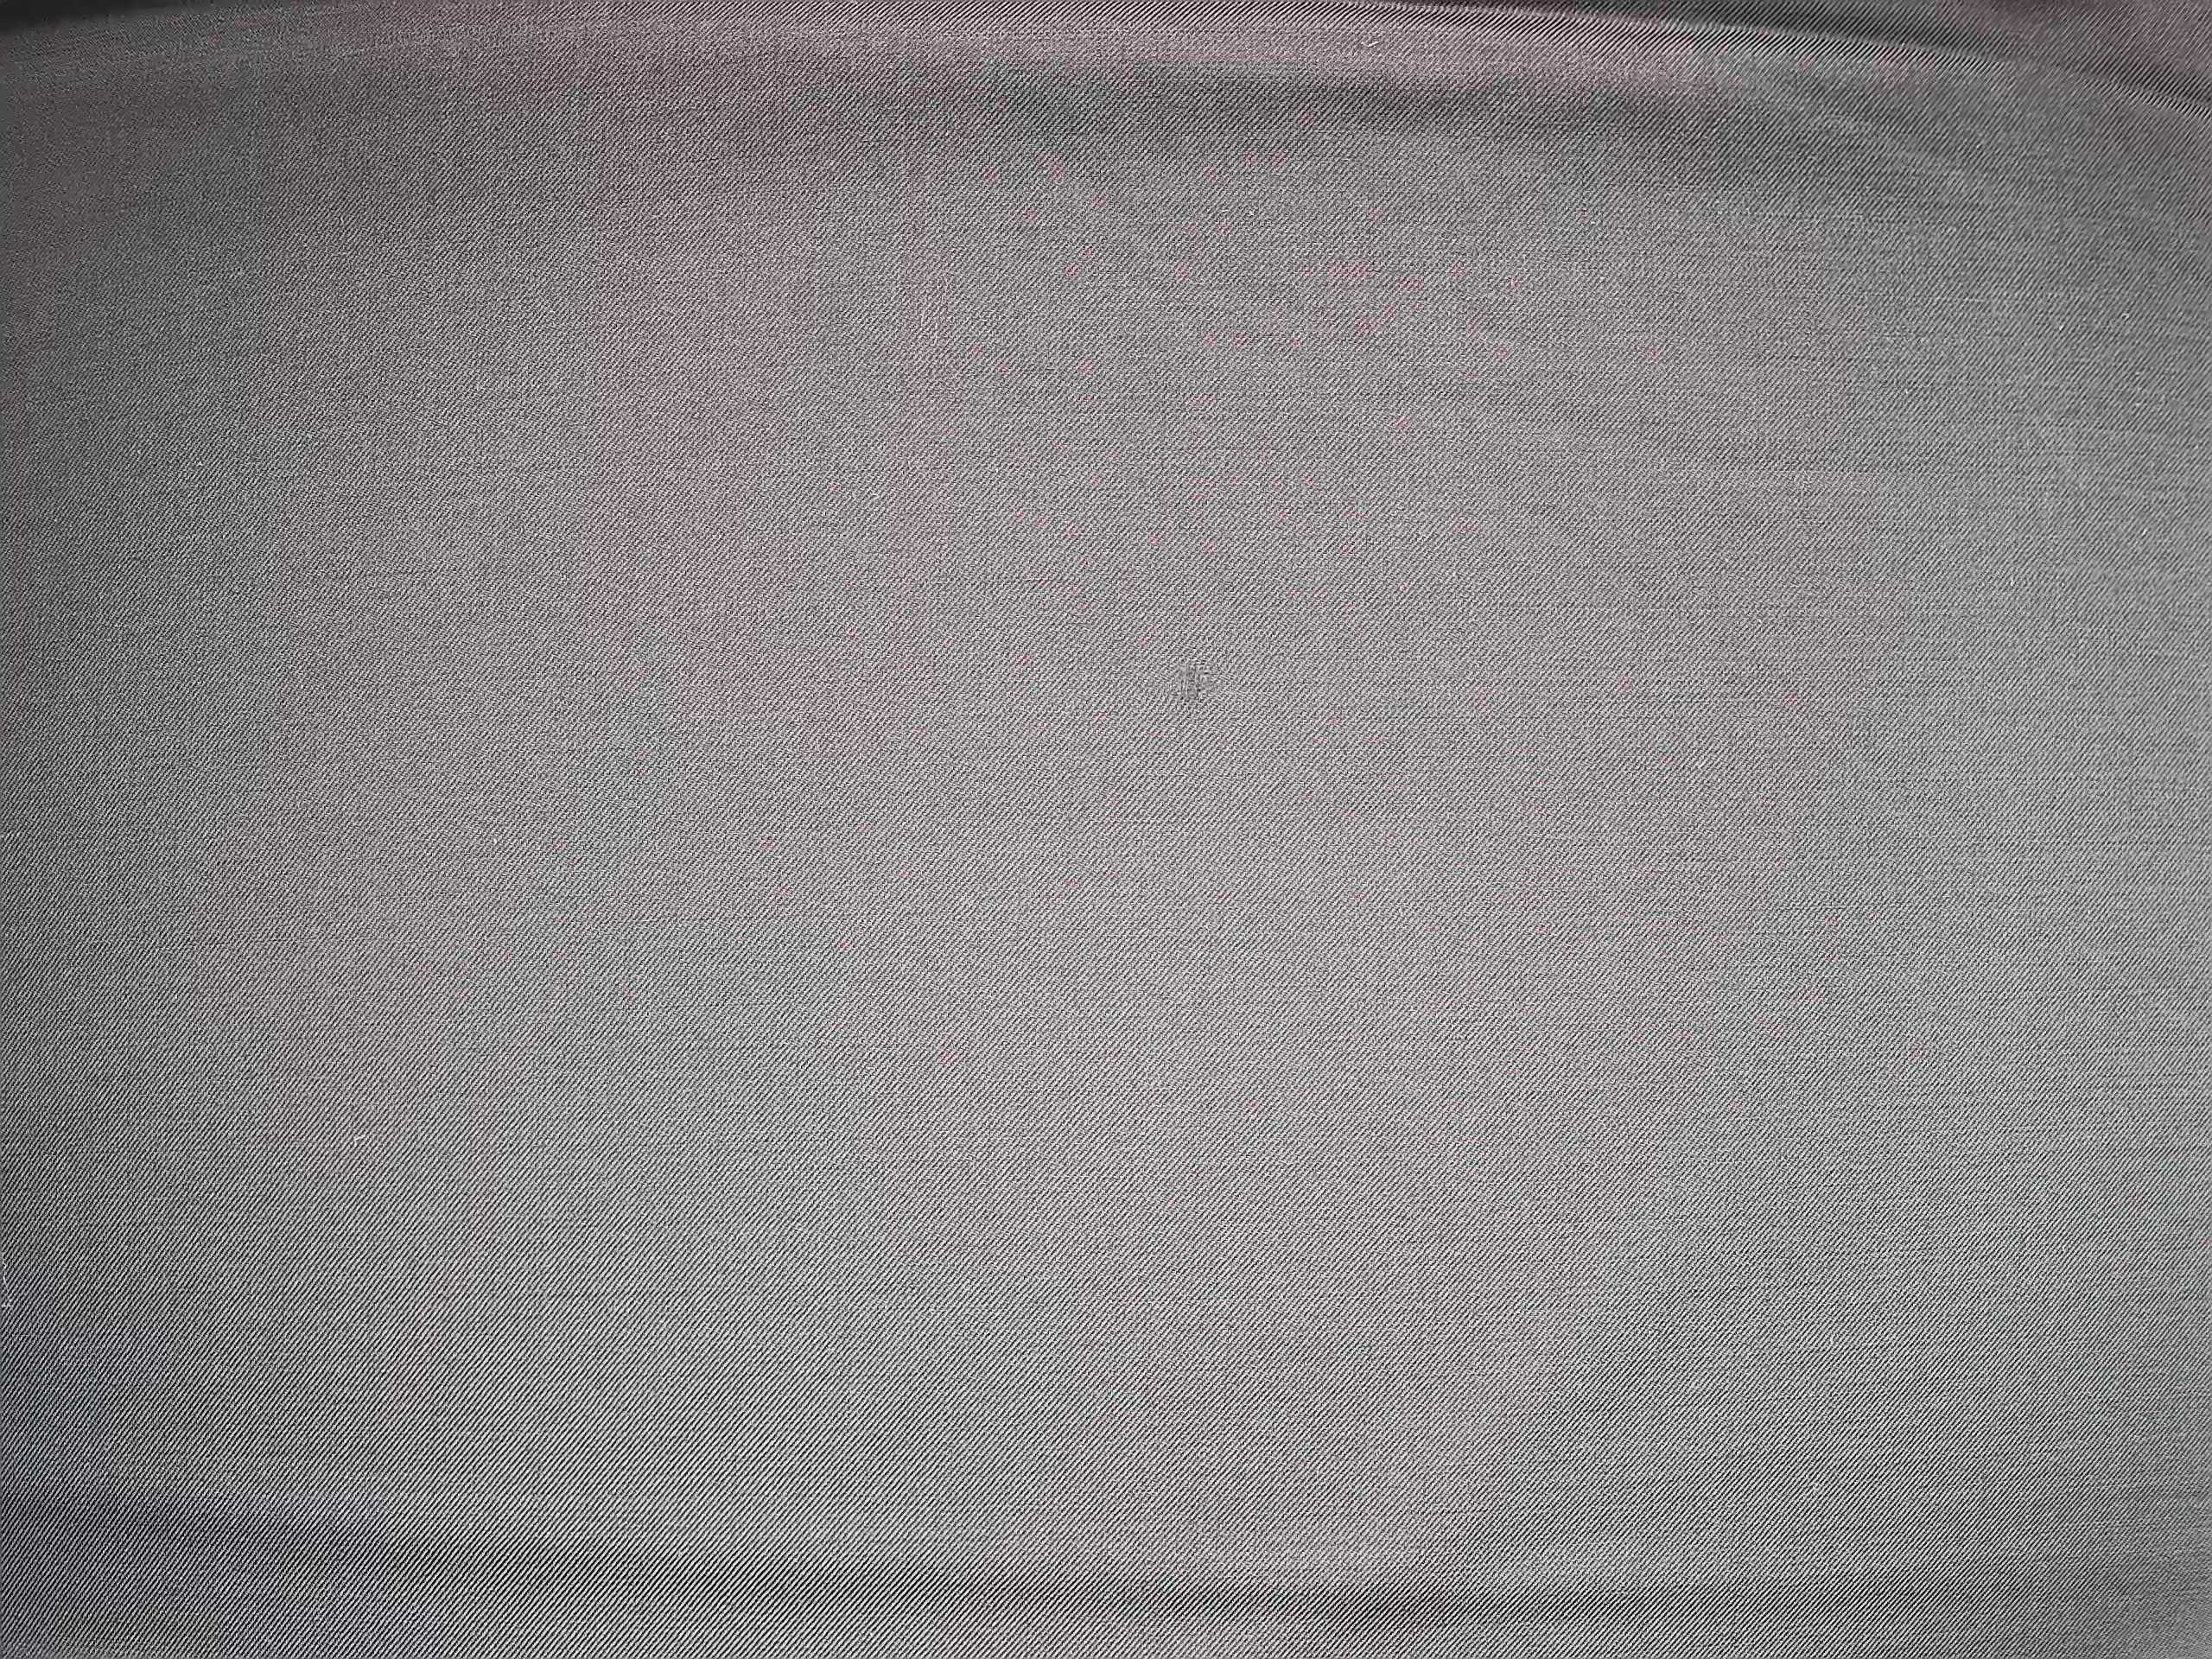rubbing-hole: (1155, 648, 1231, 716)
